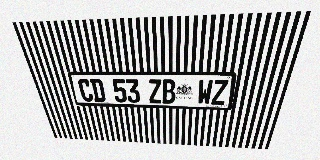3: (125, 79, 140, 103)
5: (112, 79, 128, 103)
B: (162, 79, 175, 104)
C: (77, 79, 94, 102)
D: (89, 79, 106, 102)
W: (197, 79, 213, 105)
Z: (211, 80, 229, 105), (148, 79, 162, 103)
